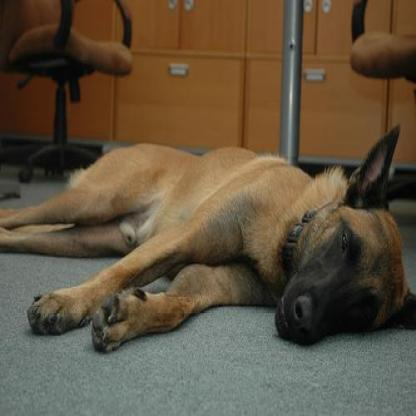malinois: (0, 117, 414, 358)
